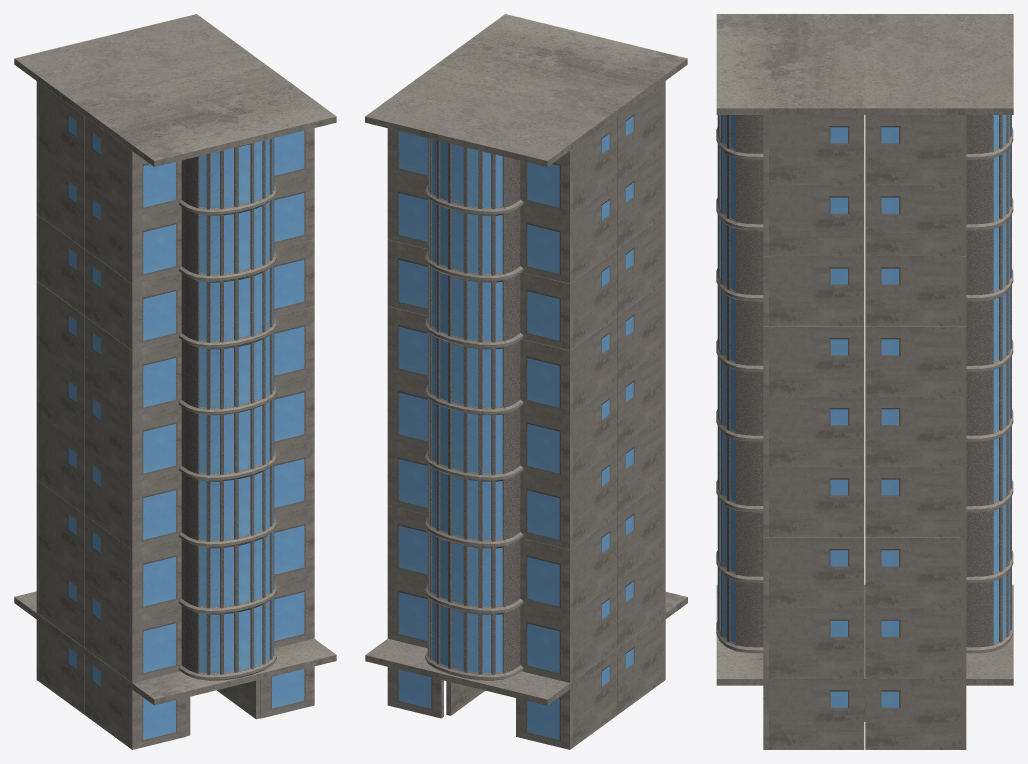
The model's file is mmt_building.fbx.
3 views of the same model, side by side, from view 1: azimuth 30°, elevation 25°; view 2: azimuth 150°, elevation 25°; view 3: azimuth 270°, elevation 25° (orthographic). The views are drawn at different scales.
Parts seen in each view (by area): view 1: pCube108; view 2: pCube108; view 3: pCube108.
Boxes of the visible parts, x1,y1,x2,y2 form: pCube108: (14, 14, 336, 749); pCube108: (365, 14, 687, 749); pCube108: (716, 14, 1013, 749).
Size of the model in its own units: 1063 by 3364 by 1414.
